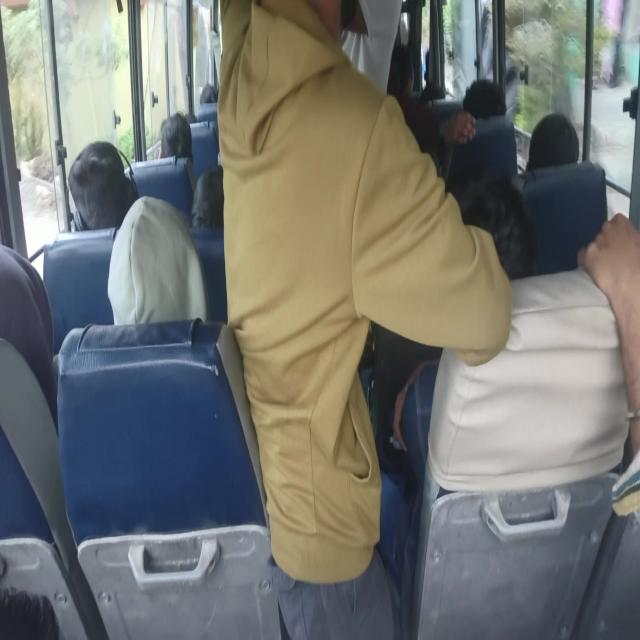person: (216, 0, 514, 638), (576, 211, 640, 459), (107, 194, 208, 325), (67, 139, 137, 232), (526, 112, 580, 169), (189, 164, 224, 230), (158, 110, 194, 160)
